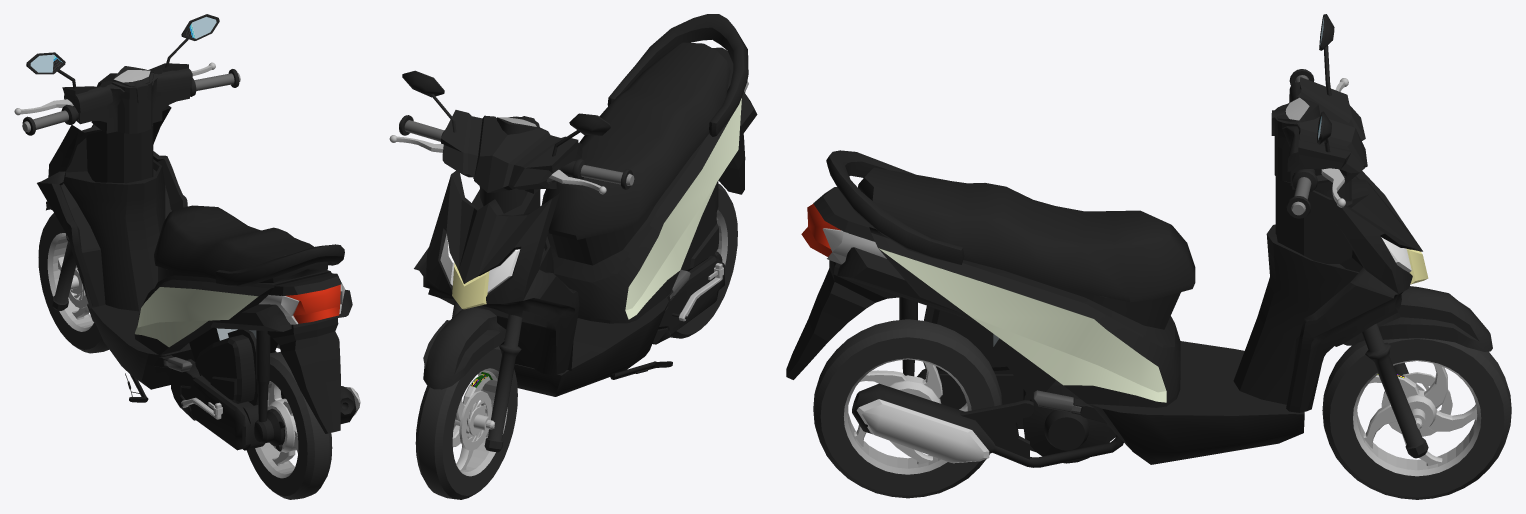
Rendered from HONDA BEAT.fbx.
The picture shows the model from 3 angles, left to right: view 1: azimuth 30°, elevation 25°; view 2: azimuth 150°, elevation 25°; view 3: azimuth 270°, elevation 25°; orthographic projection. The views are drawn at different scales.
Visible parts, largest first — view 1: body, stang, ban blakang, ban depan.004; view 2: body, stang, ban depan.004, ban blakang; view 3: body, ban depan.004, stang, ban blakang.
Part boxes in pixels (x1,y1,x2,y2): body: [37, 105, 360, 451]; stang: [14, 14, 240, 310]; ban blakang: [247, 352, 332, 499]; ban depan.004: [38, 213, 109, 353]; body: [414, 14, 757, 396]; stang: [389, 70, 634, 452]; ban depan.004: [415, 346, 517, 499]; ban blakang: [670, 183, 737, 338]; body: [786, 150, 1428, 467]; ban depan.004: [1322, 338, 1511, 499]; stang: [1271, 14, 1492, 458]; ban blakang: [813, 319, 1002, 498].
Size of the model in its own units: 73.03 by 111 by 170.
